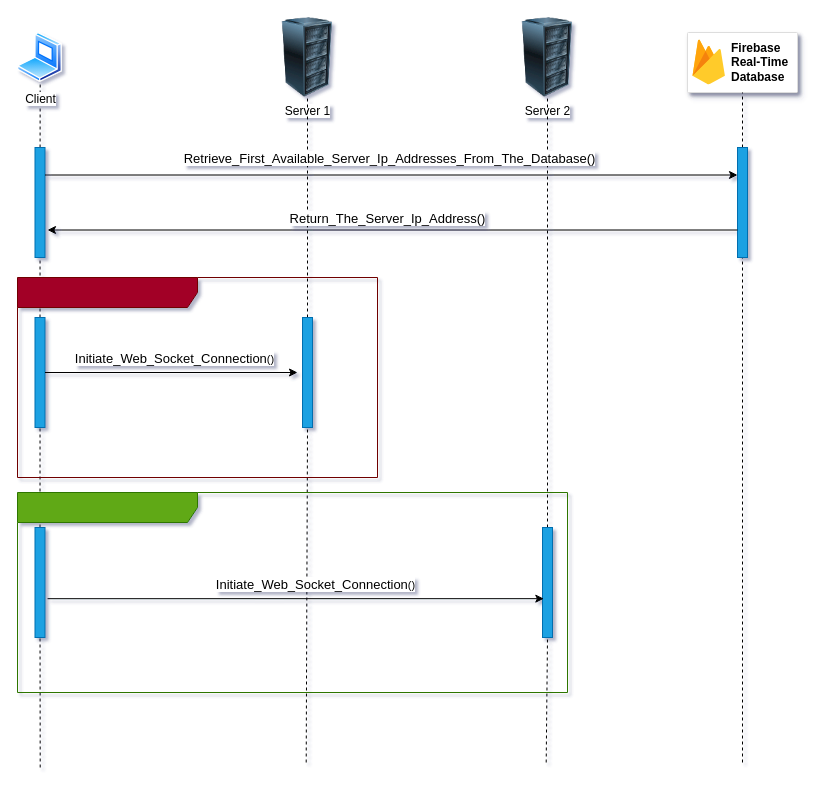
This 827x792 diagram has some shape labels left out. Each missing label, with the centre of its shape:
if server_ip == server_1_ip: point (197, 377)
if server_ip == server_2_ip: point (292, 592)
